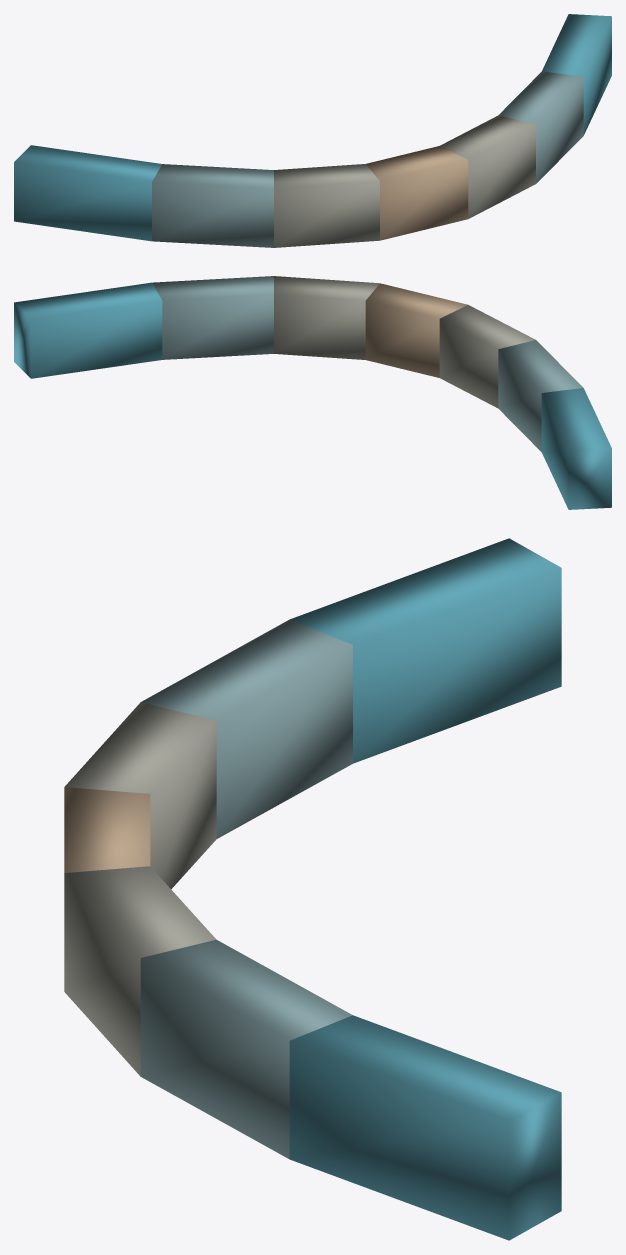
The model's file is x03_artifact.glb.
3 views of the same model, one above another, from view 1: azimuth 30°, elevation 25°; view 2: azimuth 150°, elevation 25°; view 3: azimuth 270°, elevation 25° (orthographic). The views are drawn at different scales.
Parts seen in each view (by area): view 1: ToolboxSolid; view 2: ToolboxSolid; view 3: ToolboxSolid.
Boxes of the visible parts, x1,y1,x2,y2 form: ToolboxSolid: (14, 14, 611, 247); ToolboxSolid: (14, 276, 611, 509); ToolboxSolid: (64, 538, 561, 1240).
Size of the model in its own units: 6320 by 600 by 2276.
